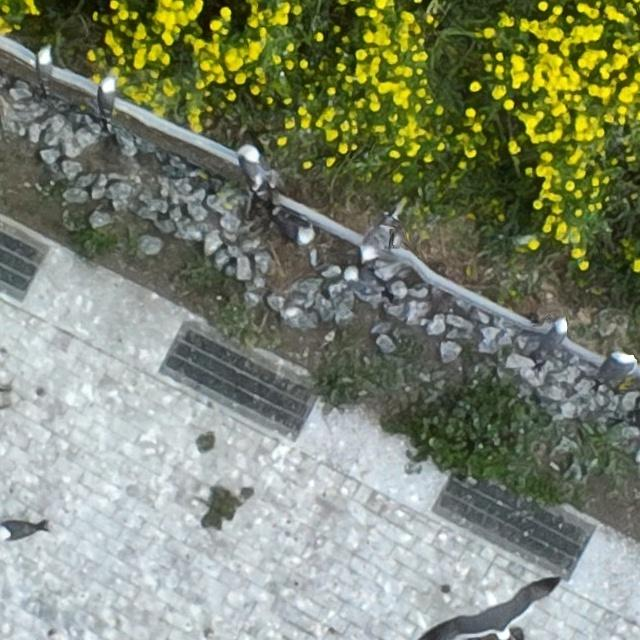F: (445, 576, 557, 635)
umineko: (596, 350, 634, 387), (531, 320, 568, 352), (277, 216, 312, 245), (363, 225, 389, 258), (240, 149, 263, 185), (96, 75, 115, 117), (38, 47, 54, 83), (3, 521, 36, 537)
